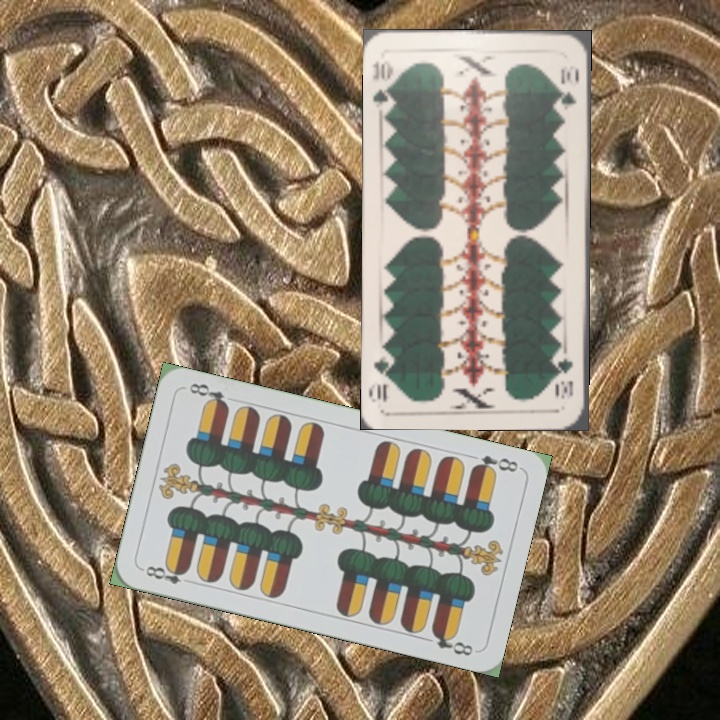E8: (467, 451, 521, 477), (138, 561, 191, 587)
G10: (369, 56, 396, 113), (553, 354, 576, 401)
